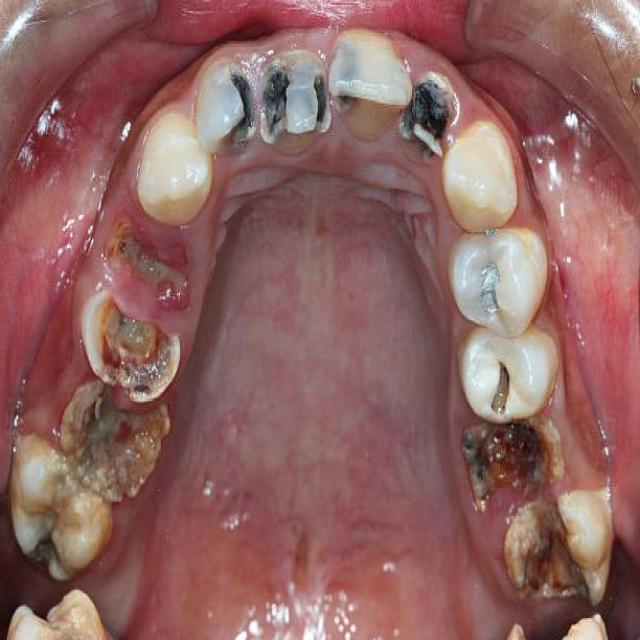caries: (501, 508, 597, 607), (67, 391, 158, 494), (102, 212, 195, 306), (460, 418, 562, 500), (79, 323, 180, 394), (260, 56, 320, 154), (201, 72, 253, 155), (405, 69, 454, 155), (326, 32, 367, 112), (24, 527, 74, 585), (480, 350, 512, 416), (480, 265, 506, 319)
